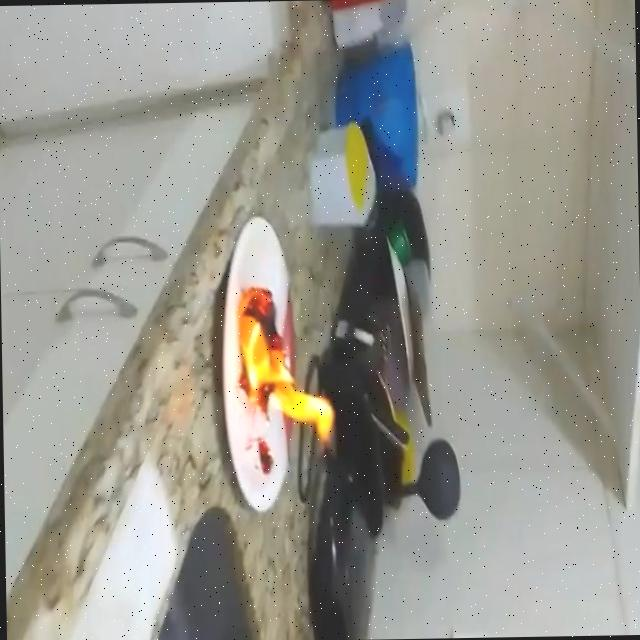fire: (234, 280, 338, 448)
